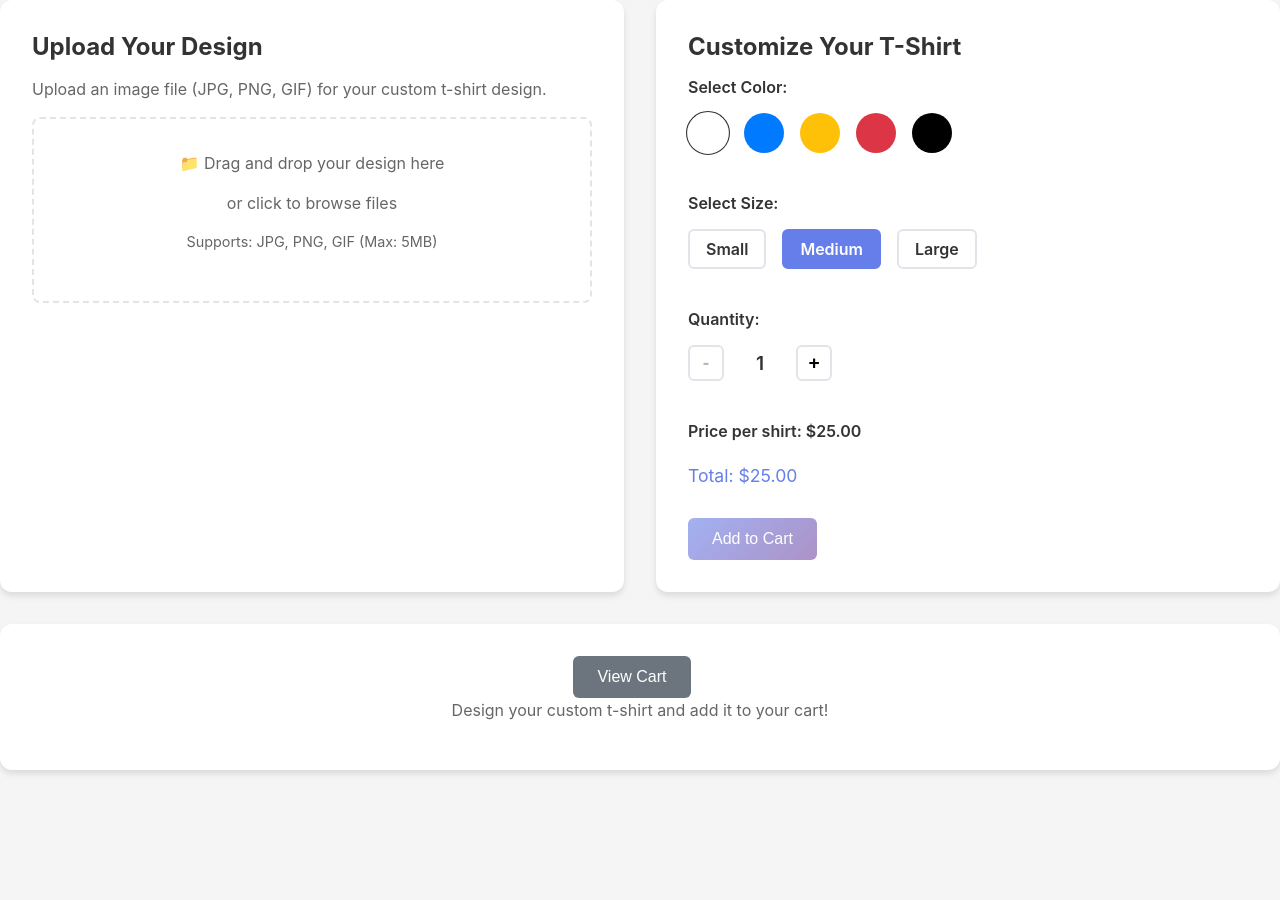
Test: TShirtDesigner Component › Quantity and Price Management › should calculate price correctly
expect the text "Price per shirt: $25.00" is shown: met, box [688,421,861,441]
expect the text "Total: $25.00" is shown: met, box [688,465,797,486]
// Increase quantity and check total
Click the button "+". click: click(814, 363)
box: [796,345,832,381]
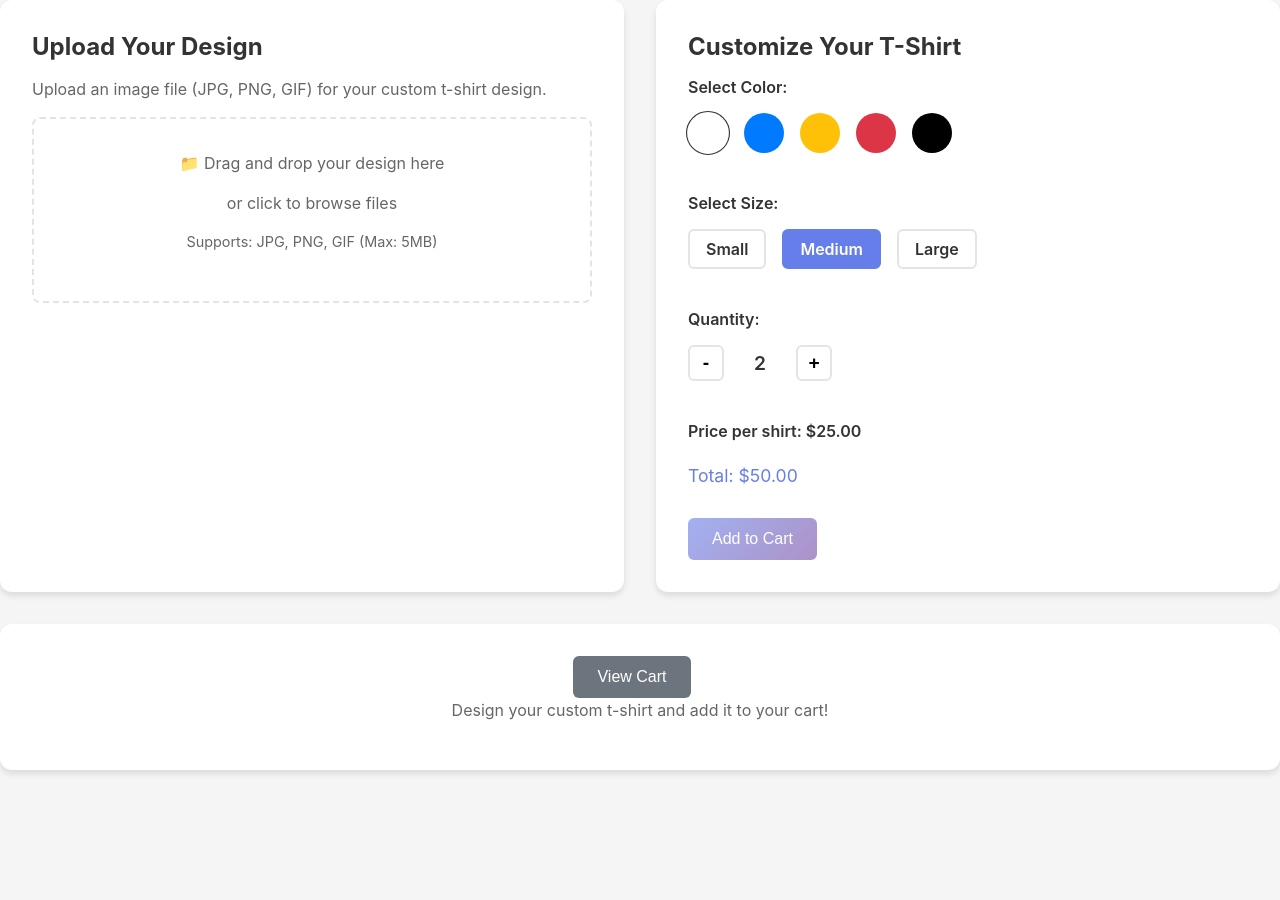
expect the text "Total: $50.00" is shown: met, box [688,465,798,486]
